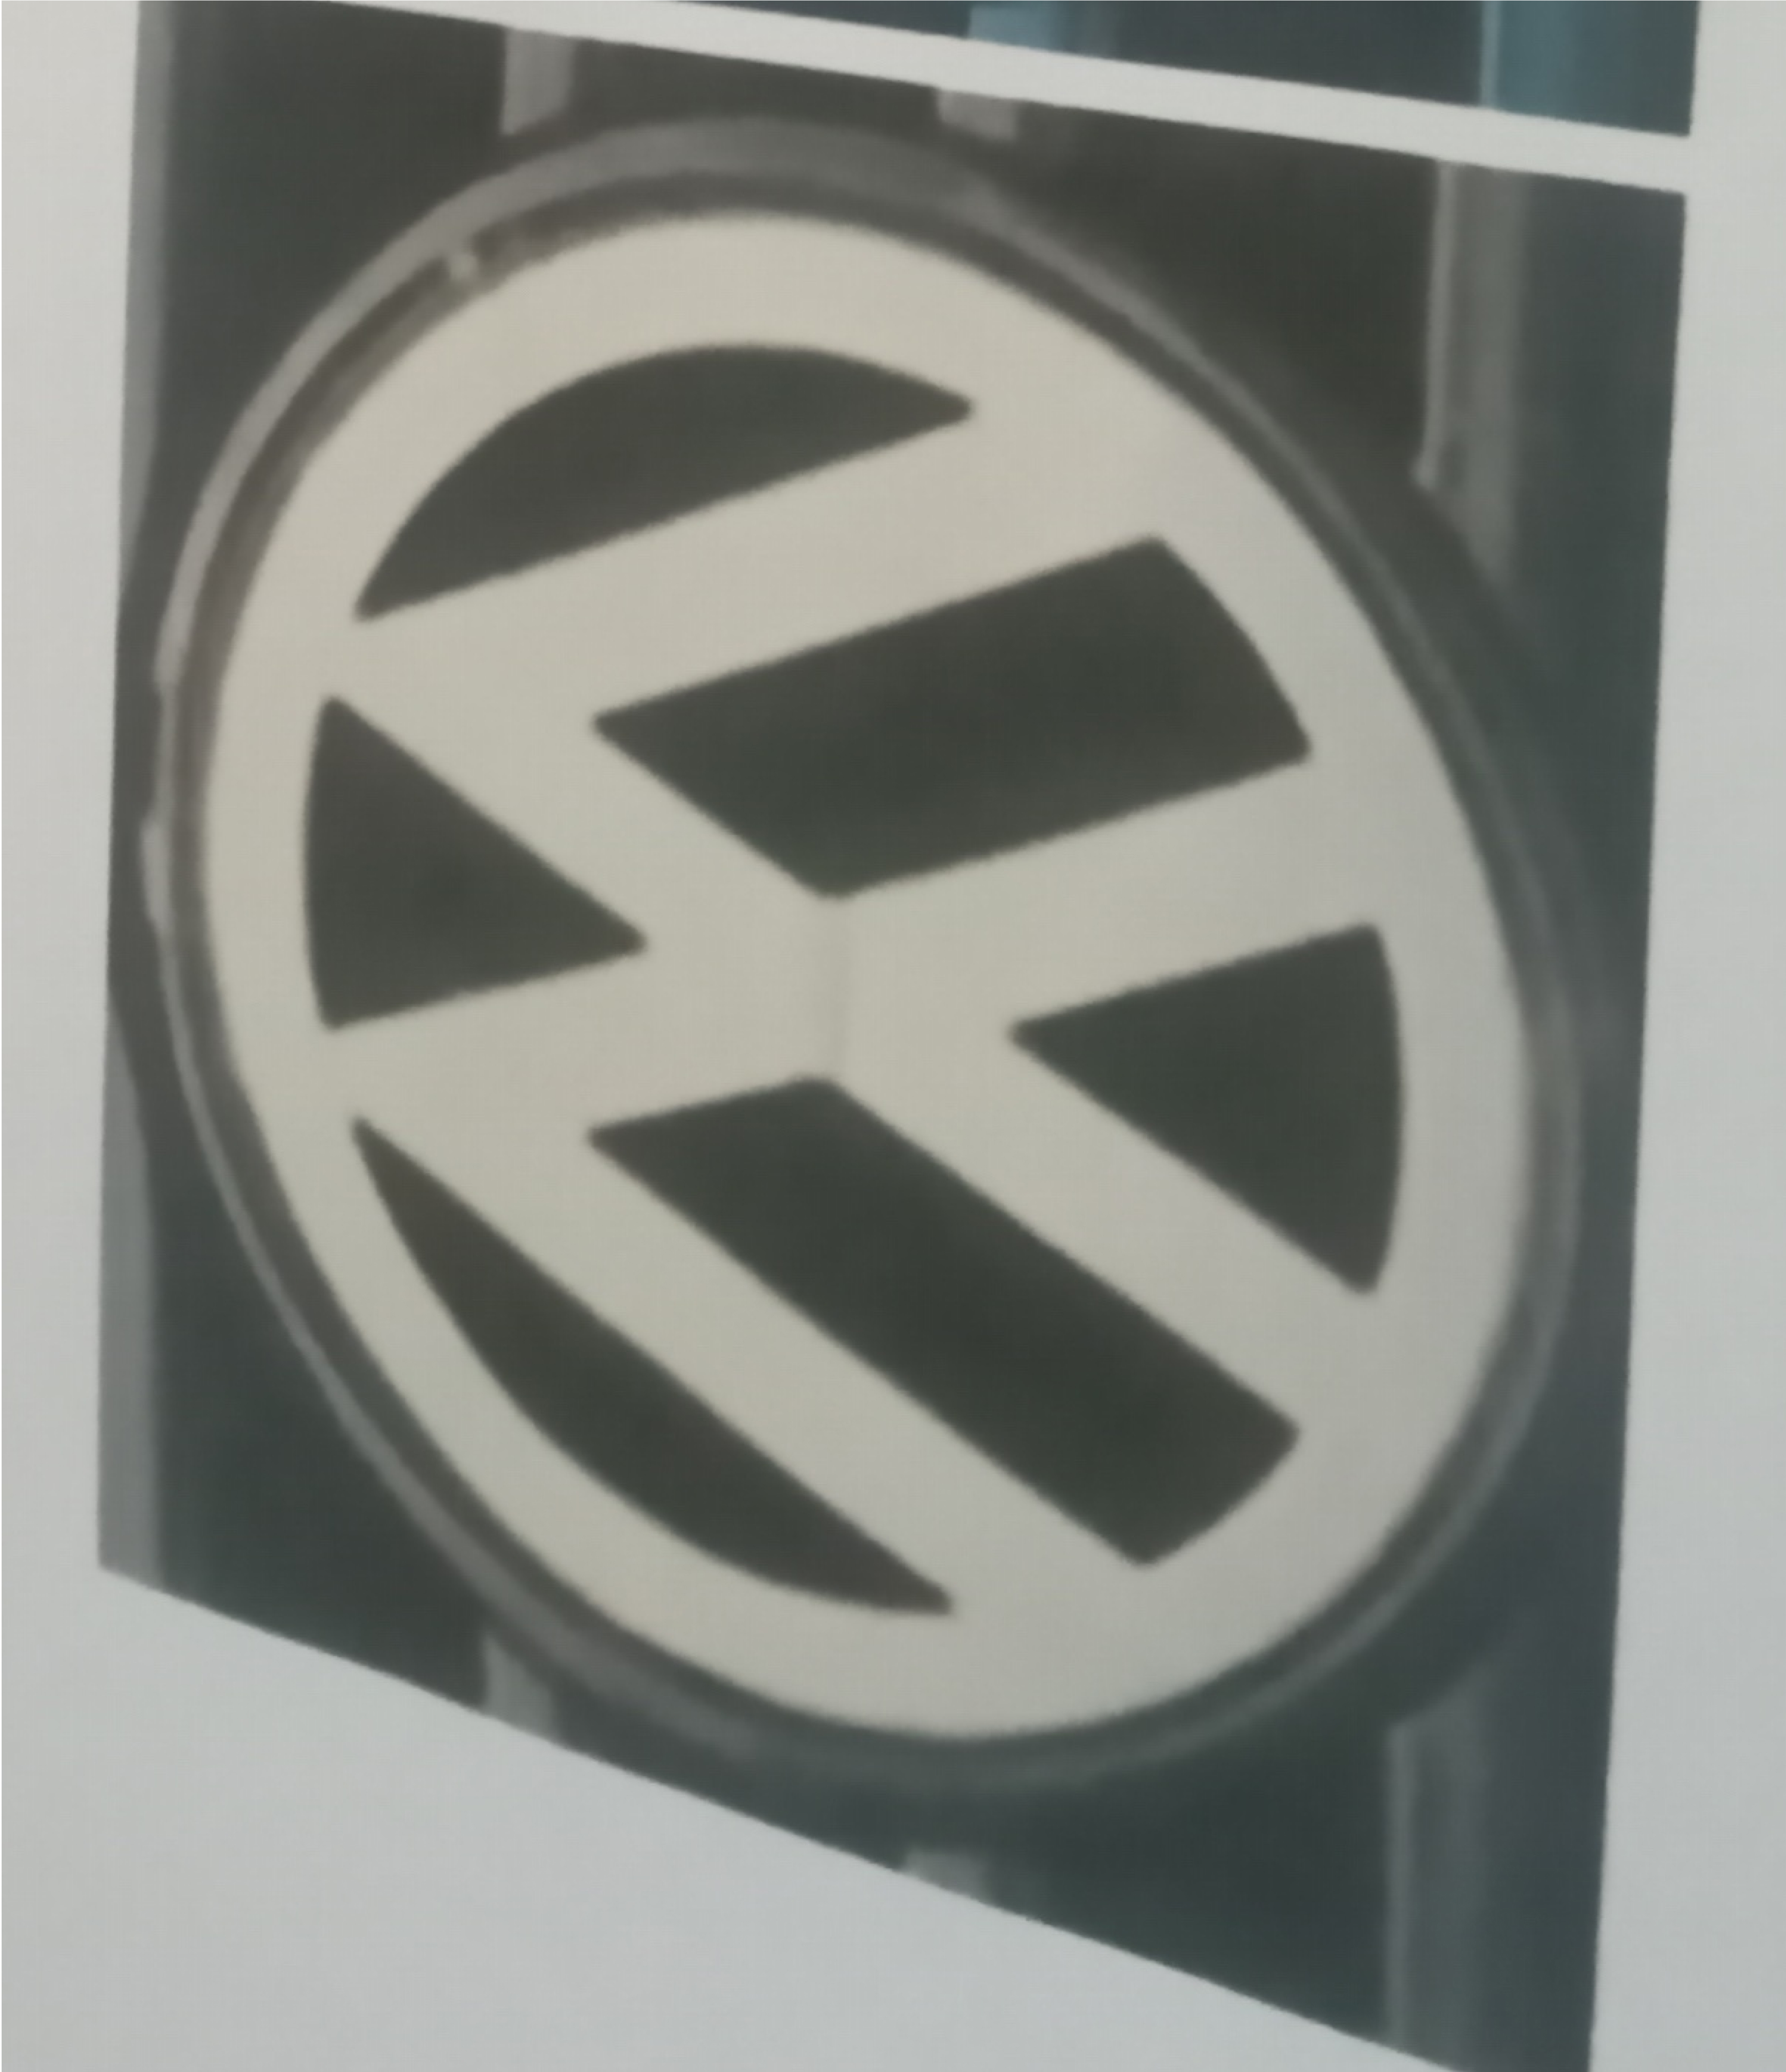Volkswagen: (129, 76, 1649, 1831)
